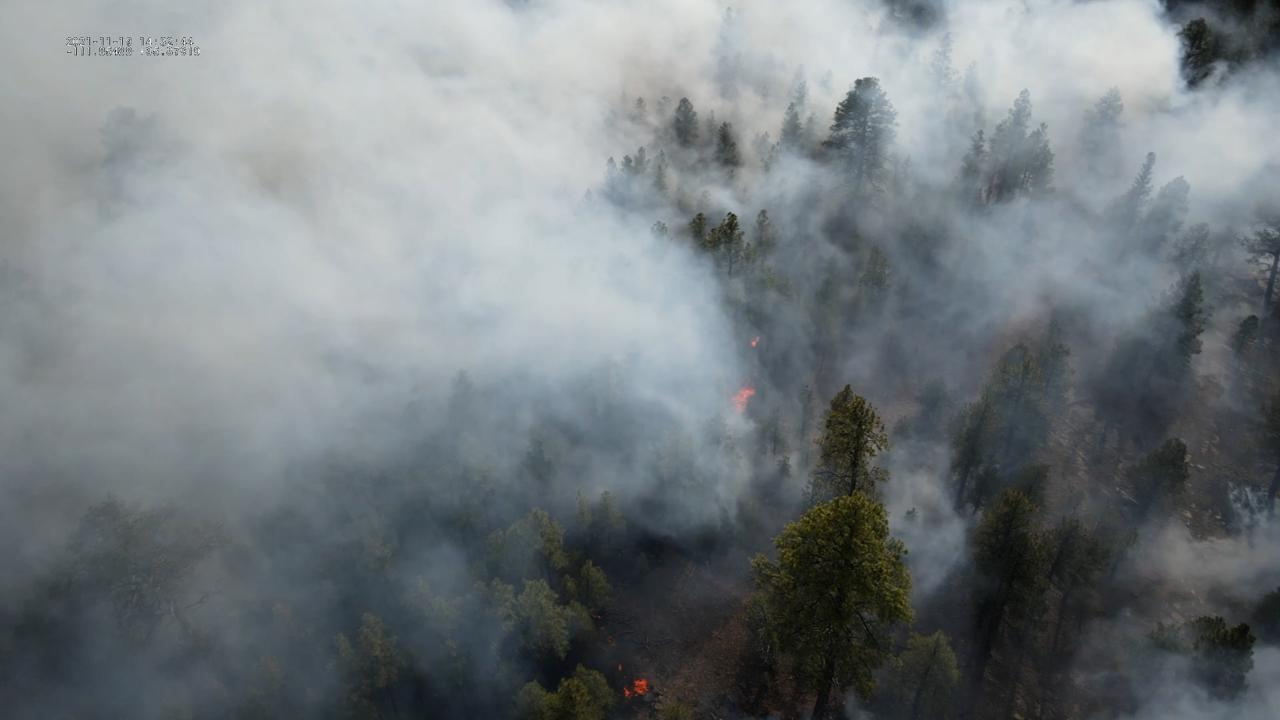fire: (727, 386, 756, 416), (622, 677, 649, 702), (750, 334, 761, 350), (590, 613, 603, 620), (617, 664, 624, 672)
smoke: (0, 0, 1280, 720)
